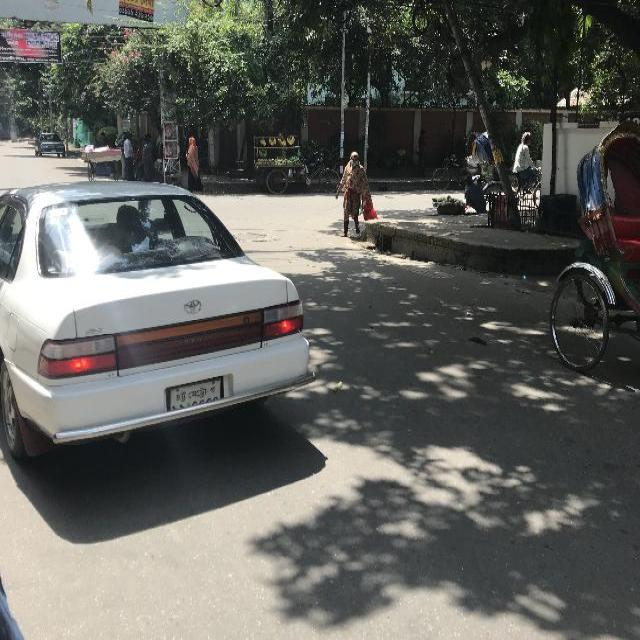car: (0, 178, 316, 457), (33, 132, 63, 154)
rickshaw: (551, 123, 639, 375), (473, 136, 542, 206), (430, 130, 484, 189)
